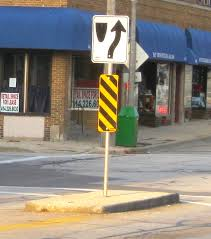keepRight: (90, 11, 129, 65)
